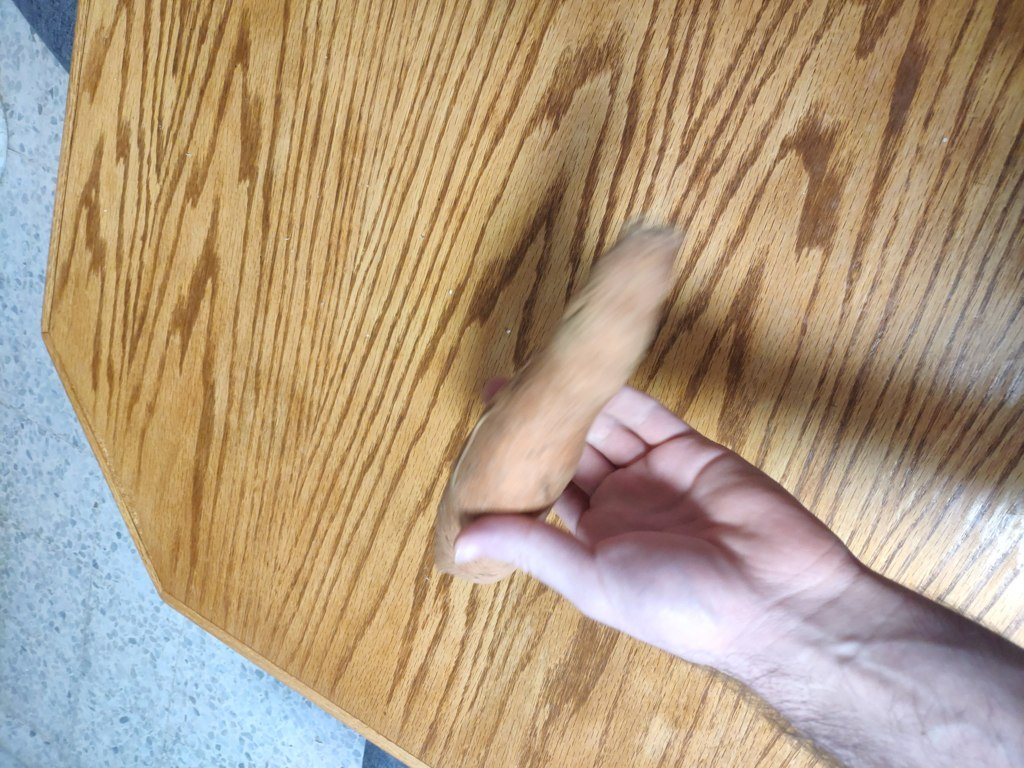Sweet Potato: (432, 224, 679, 594)
